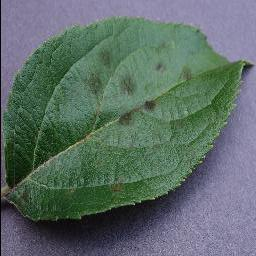apple healthy: (0, 14, 254, 223)
